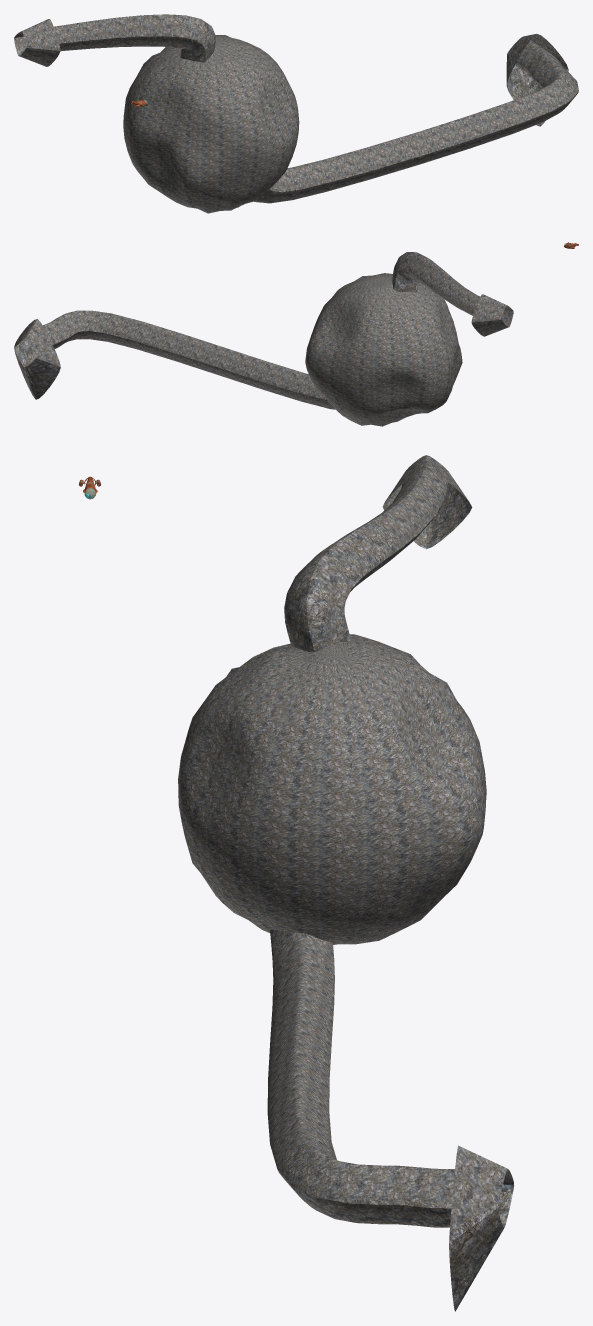
The model's file is cueva05.FBX.
3 views of the same model, one above another, from view 1: azimuth 30°, elevation 25°; view 2: azimuth 150°, elevation 25°; view 3: azimuth 270°, elevation 25° (orthographic). The views are drawn at different scales.
Visible parts, largest first — view 1: GeoSphere001, Loft002; view 2: GeoSphere001, Loft002; view 3: GeoSphere001, Loft002.
Boxes of the visible parts, x1=… form: GeoSphere001: x1=123, y1=35, x2=299, y2=213; Loft002: x1=14, y1=14, x2=578, y2=203; GeoSphere001: x1=305, y1=273, x2=462, y2=426; Loft002: x1=14, y1=252, x2=513, y2=409; GeoSphere001: x1=178, y1=634, x2=486, y2=944; Loft002: x1=267, y1=455, x2=514, y2=1311.
Size of the model in its own units: 659 by 268 by 253.
